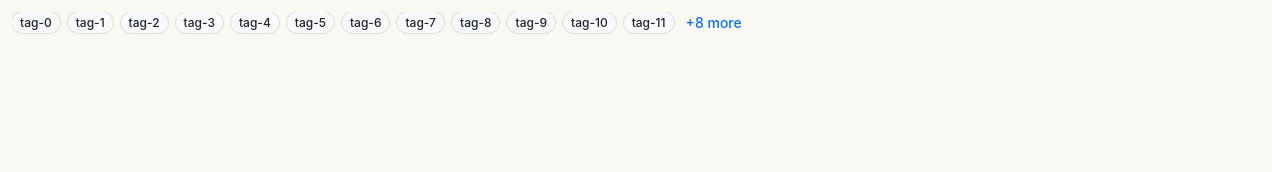
Scenario: ChipFilter › reveals the rest, and folds them back
Click the button "+8 more". click: (714, 22)
box: [682, 12, 746, 33]
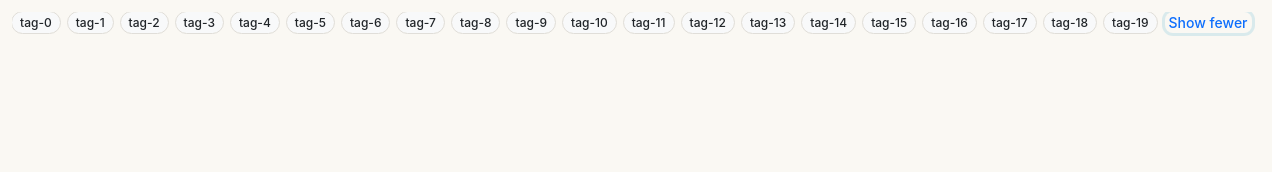
Expected: the button "tag-19" is shown, [1104, 12, 1157, 33]
Click the button "Show fewer". click: (1208, 22)
box: [1164, 12, 1252, 33]
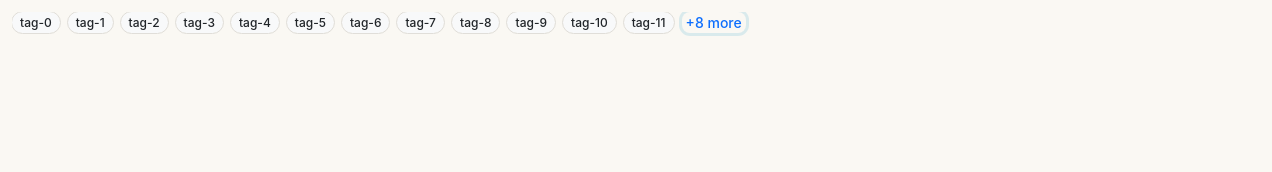
Expected: the button "tag-19" is gone
